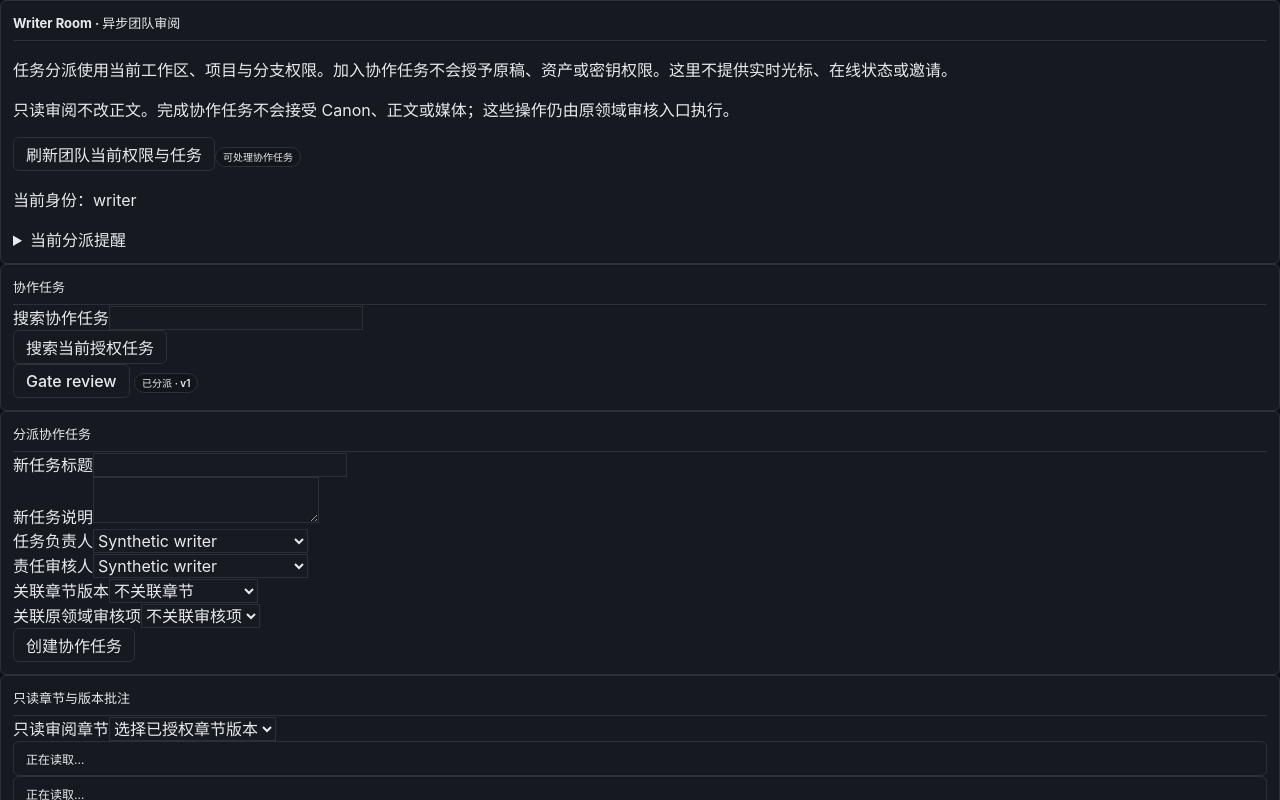
Test: renders actual task progress and responsible change-request round trip without domain approval
The width and height of the screenshot is (1280, 800).
Click the button "Gate review" at (71, 381), box [13,364,130,398]
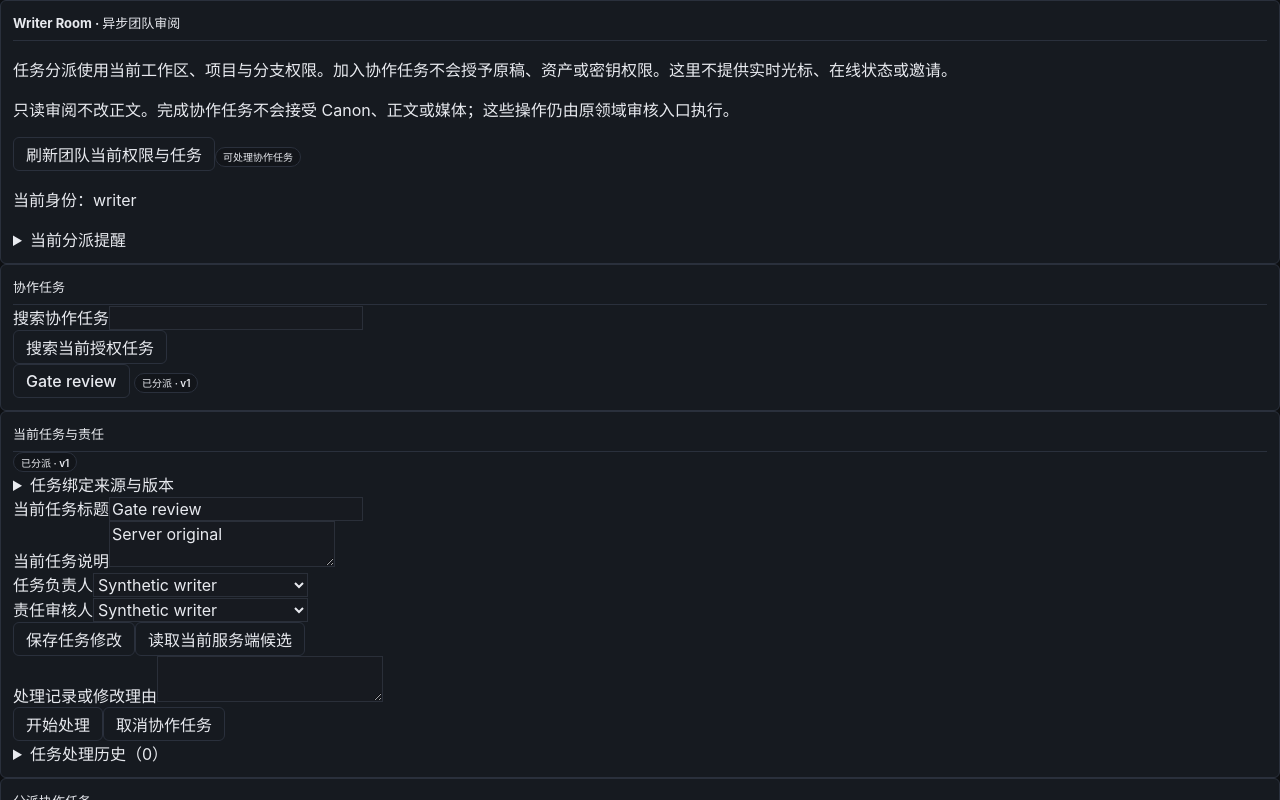
Click the button "开始处理" at (58, 724), box [13,707,103,741]
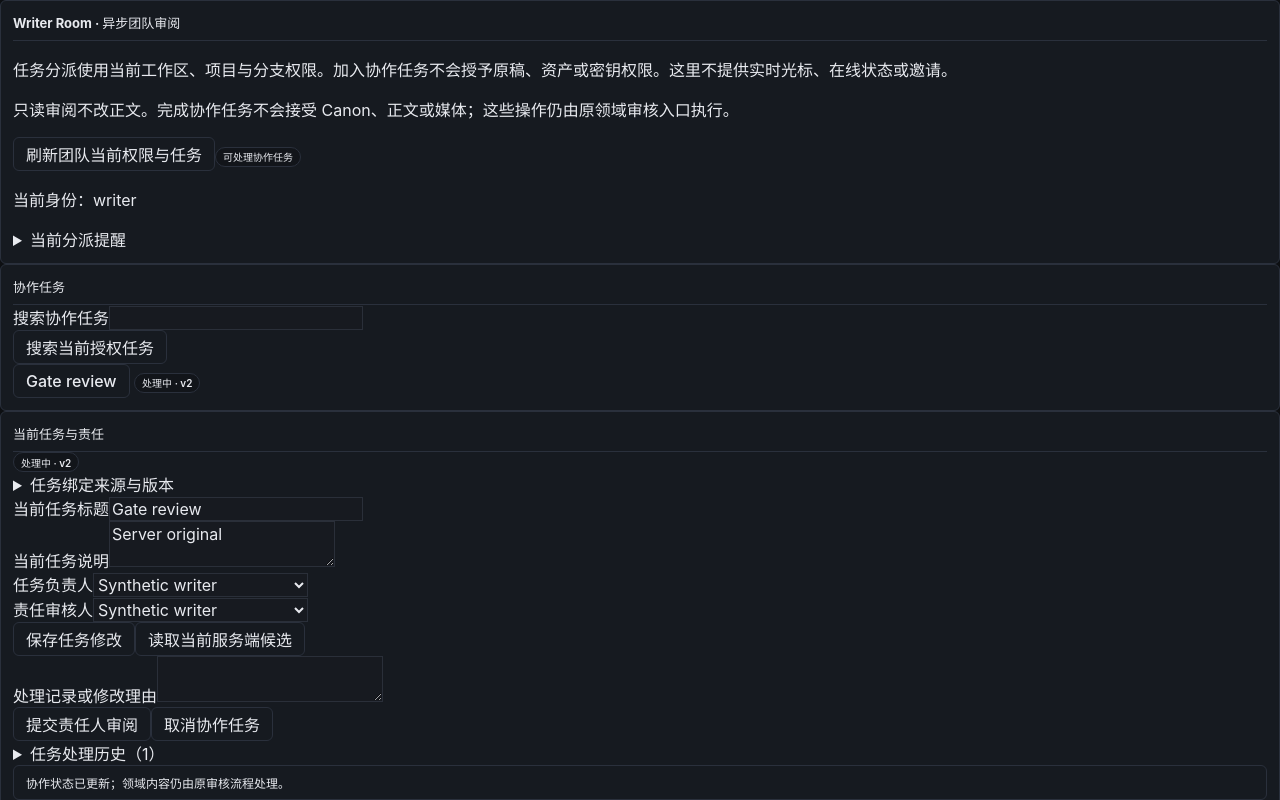
Click the button "提交责任人审阅" at (82, 724), box [13,707,151,741]
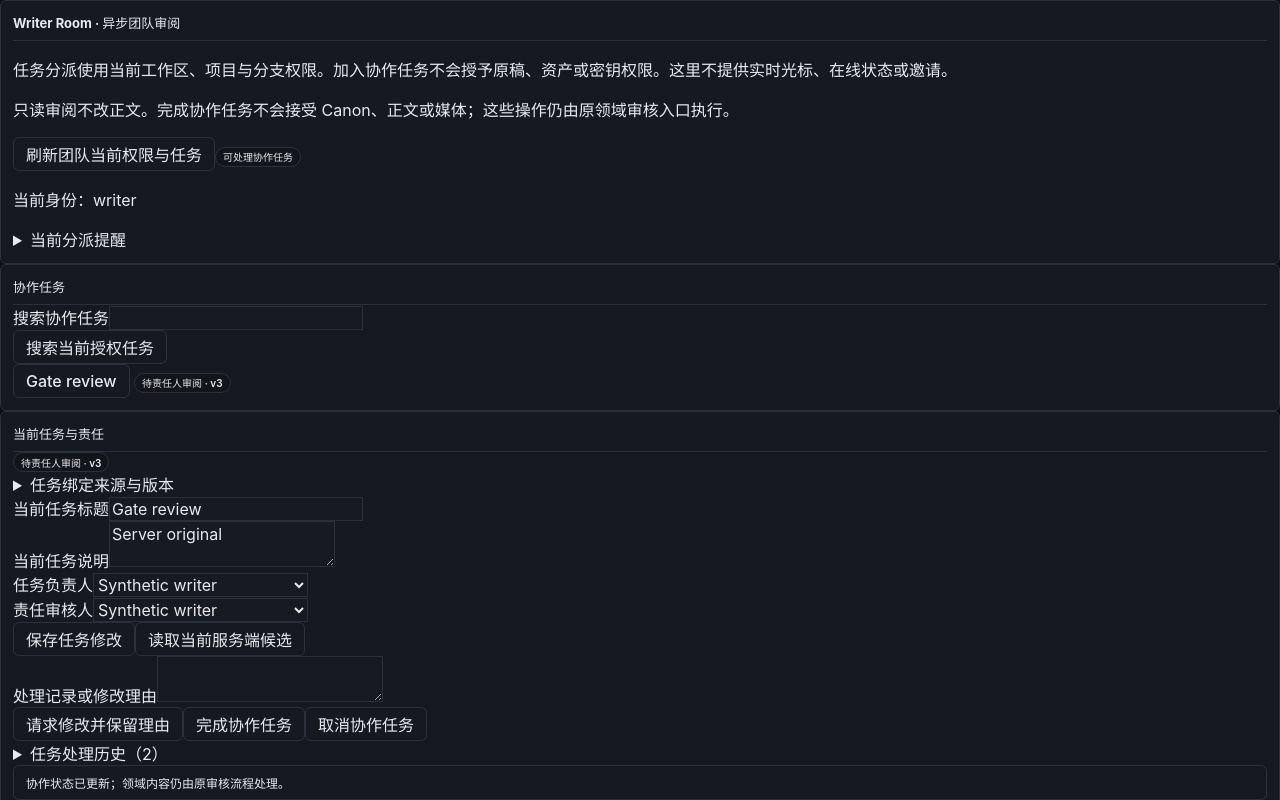
Result: the button "请求修改并保留理由" is disabled at [13,707,183,741]
Type "请补充人物动机🙂" into the text box labelled "处理记录或修改理由" at (270, 679), box [157,656,383,702]
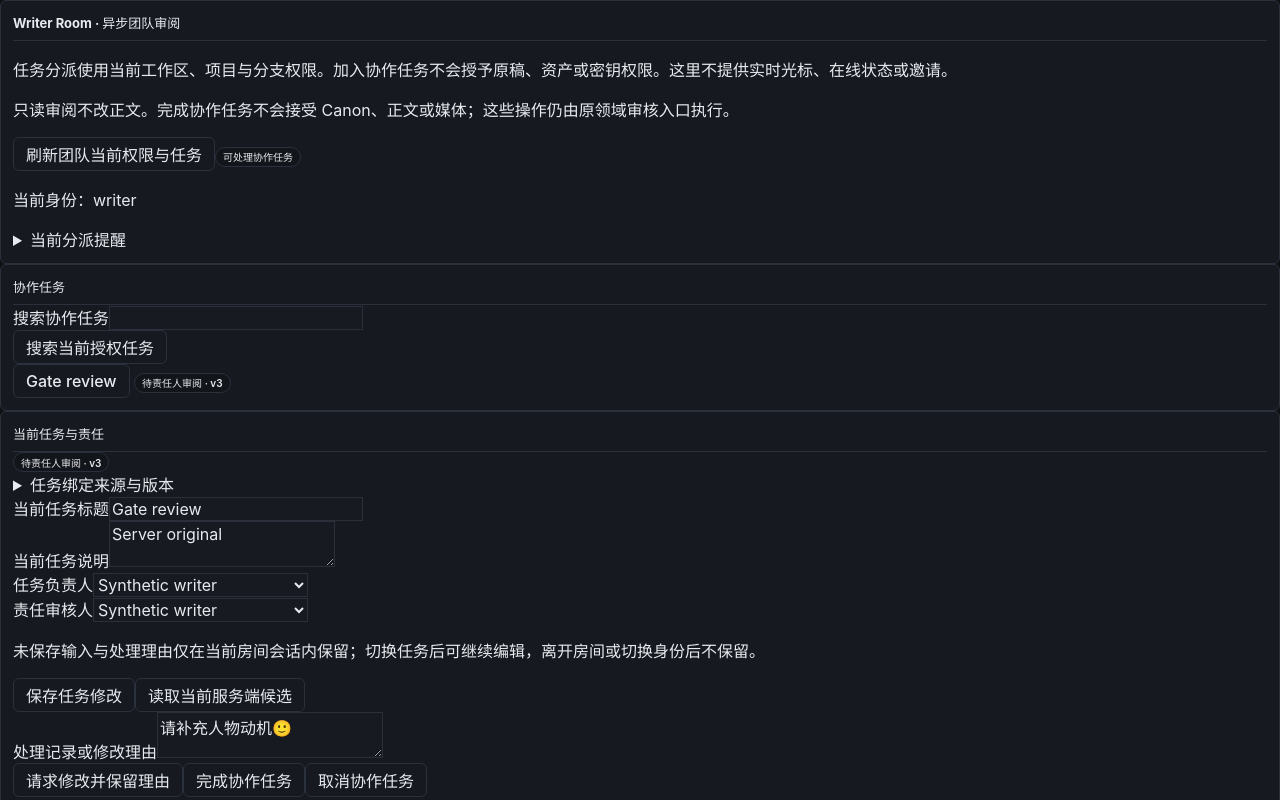
Click the button "请求修改并保留理由" at (98, 780), box [13,763,183,797]
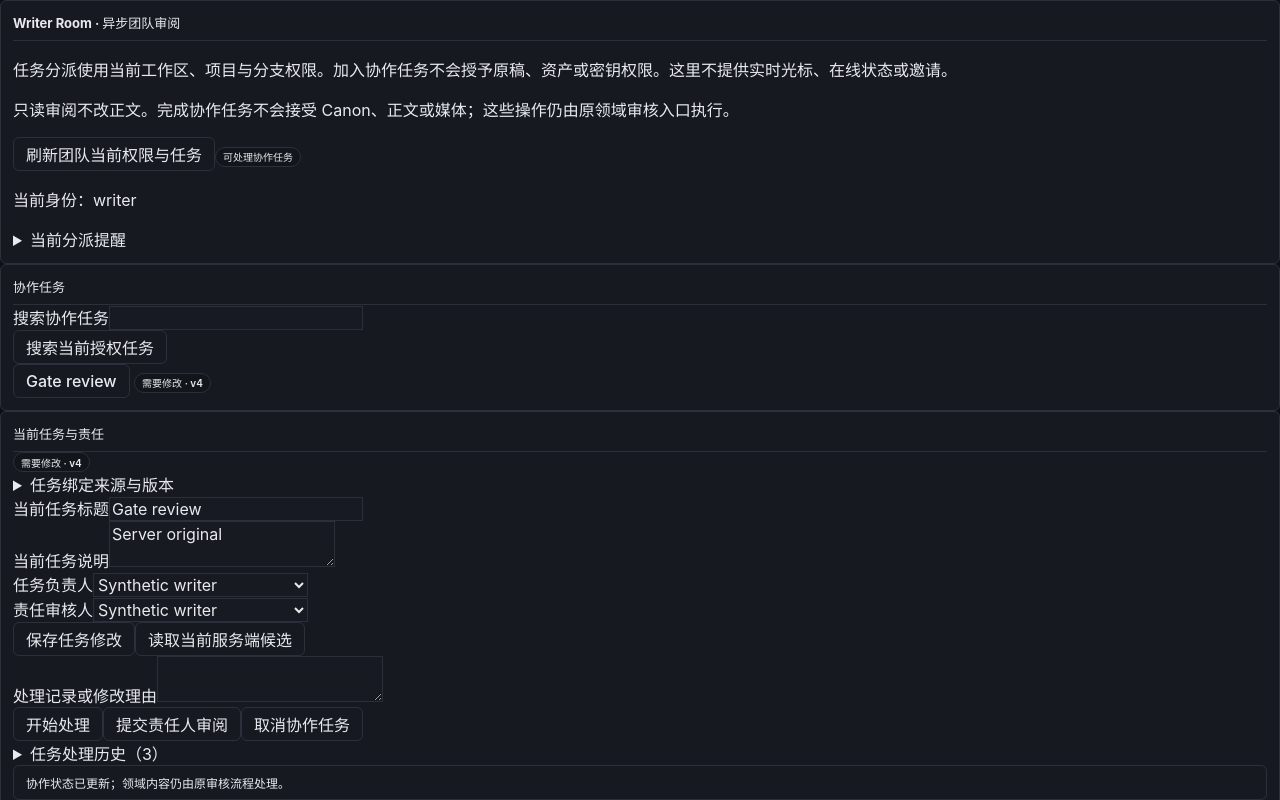
Result: the text "需要修改 · v4" below "搜索协作任务" is shown at [142,377,182,389]
